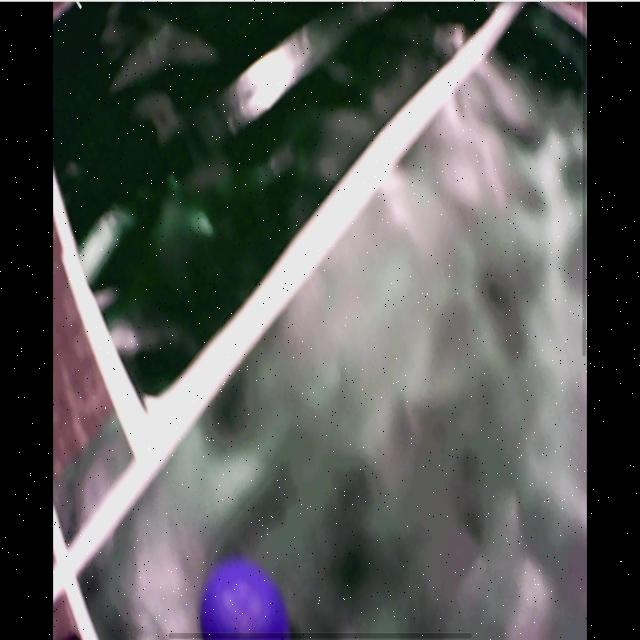ball: (201, 560, 286, 640)
